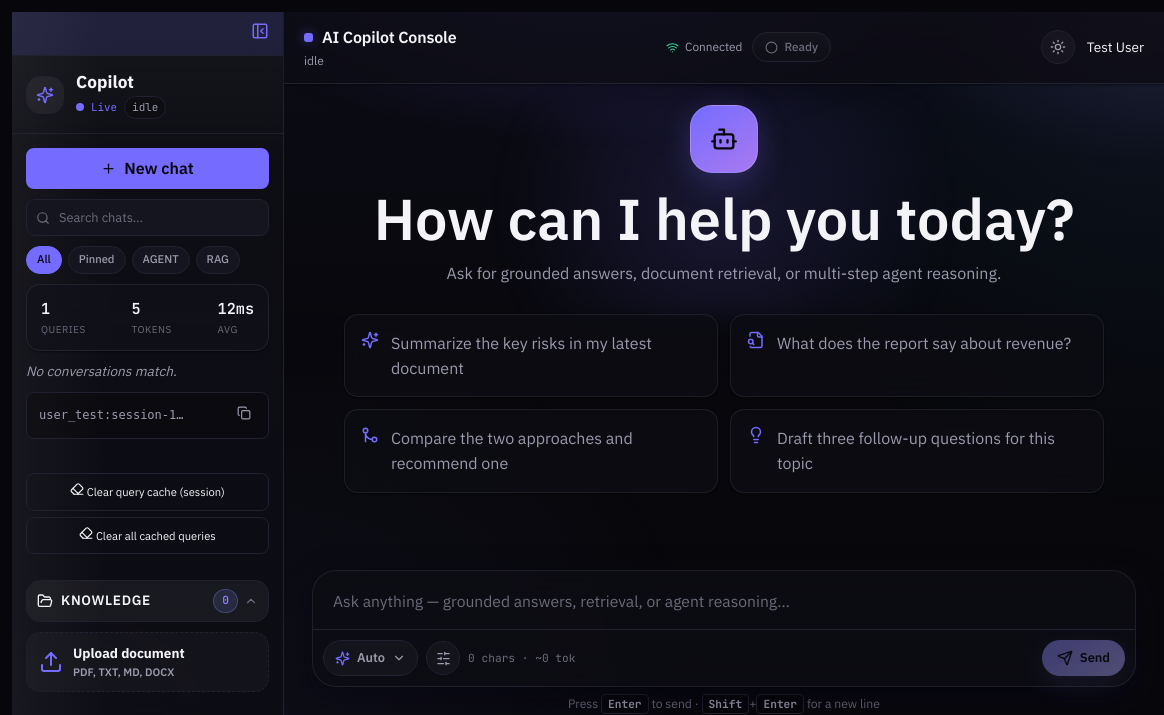
Test case: toggles trace visibility
(page scrolled)
expect the text titled "user_test:session-1" is shown: met, box [39, 406, 184, 425]
Replace the text in the text box named "Query" with "show trace": (724, 600) [313, 571, 1135, 629]
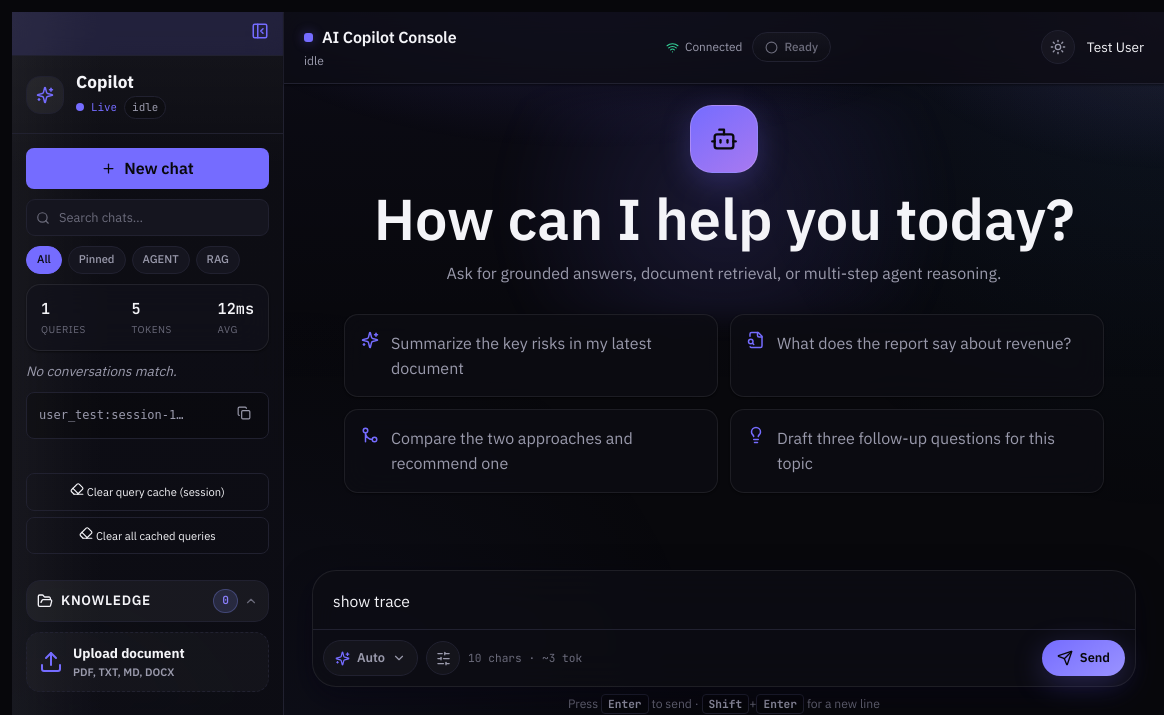
Click the button "Send": (1083, 658) [1042, 640, 1125, 676]
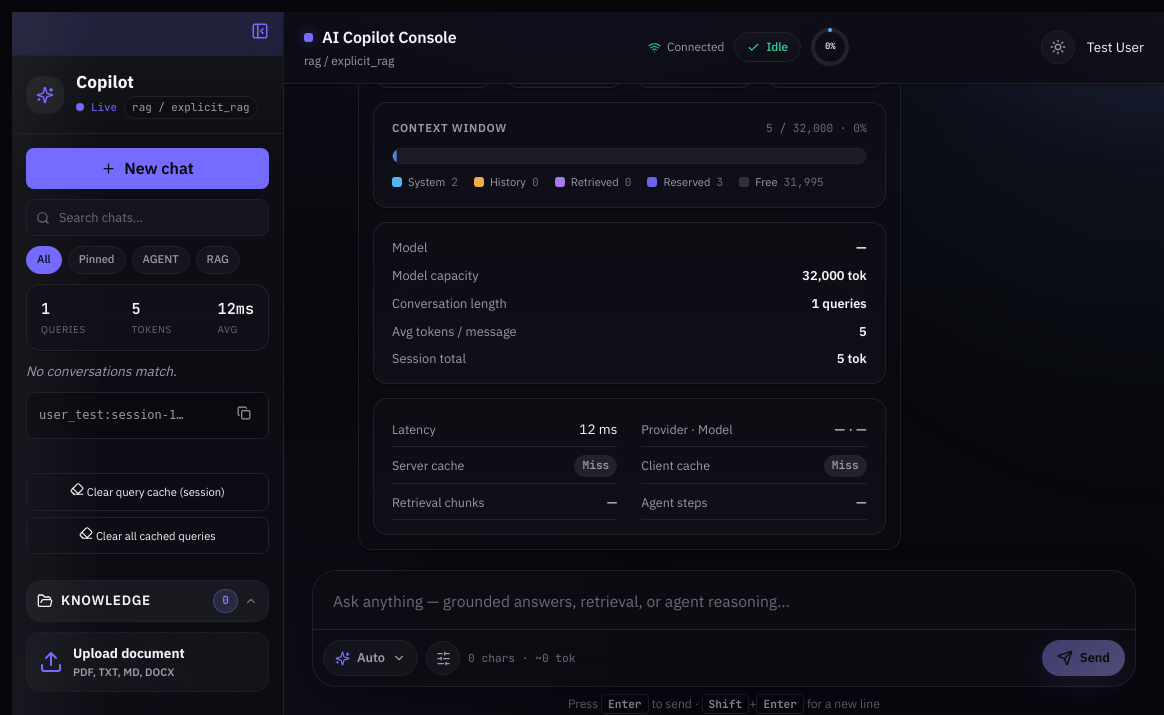
Click the button named "Display preferences": (443, 658) [426, 641, 460, 675]
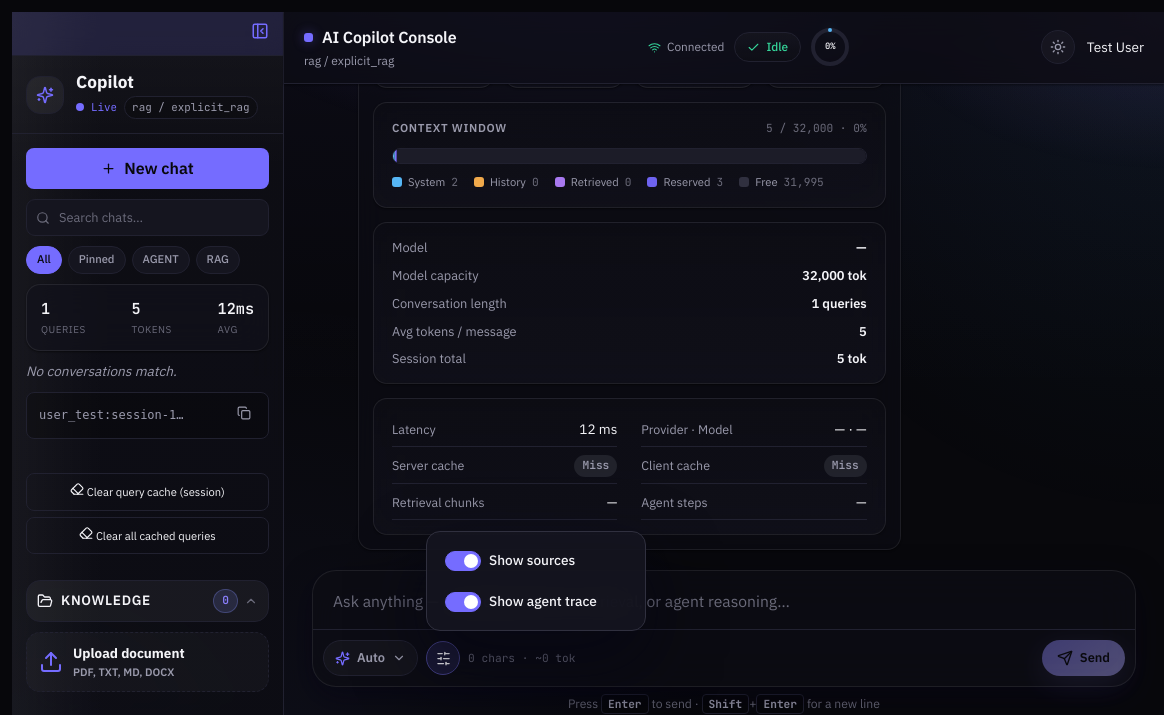
Click the checkbox labelled "Show agent trace": (521, 602) [445, 592, 597, 612]
(page scrolled)
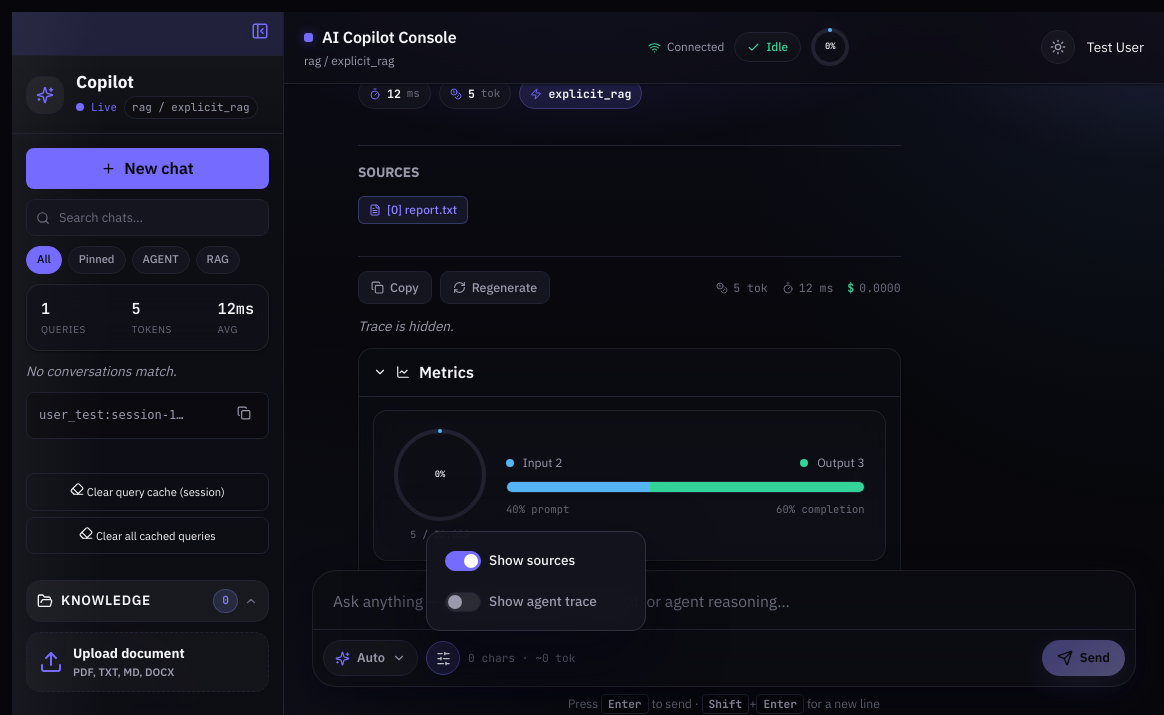
expect the text "Trace is hidden." is shown: met, box [358, 318, 454, 336]
